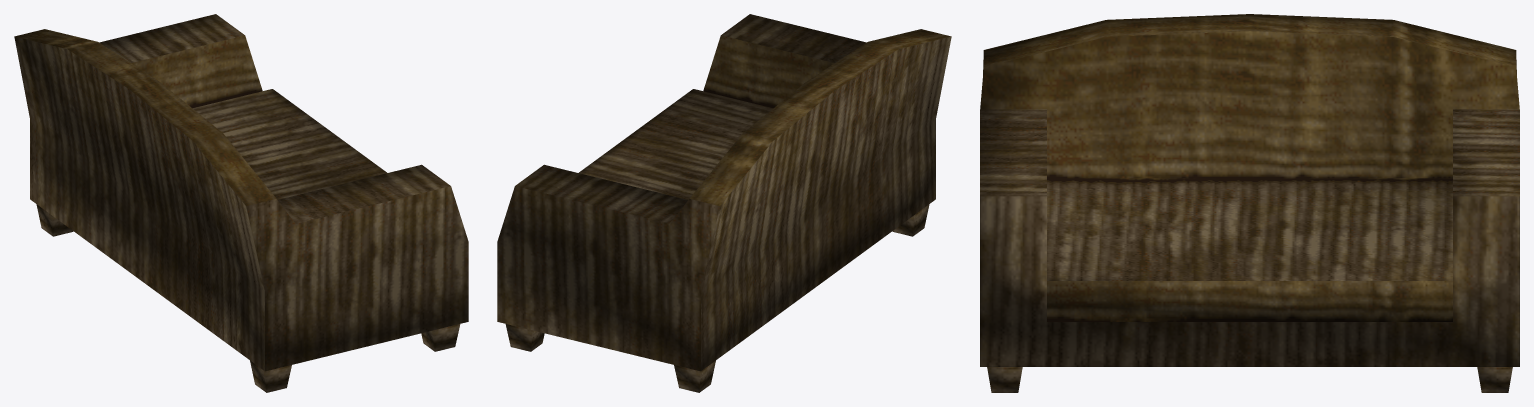
Rendered from couch.fbx.
The picture shows the model from 3 angles, left to right: view 1: azimuth 30°, elevation 25°; view 2: azimuth 150°, elevation 25°; view 3: azimuth 270°, elevation 25°; orthographic projection. The views are drawn at different scales.
Visible parts, largest first — view 1: Couch; view 2: Couch; view 3: Couch.
Part boxes in pixels (left/top/right/bottom): Couch: left=14, top=14, right=468, bottom=392; Couch: left=497, top=14, right=951, bottom=392; Couch: left=980, top=14, right=1519, bottom=392.
Size of the model in its own units: 90.72 by 85.04 by 160.
